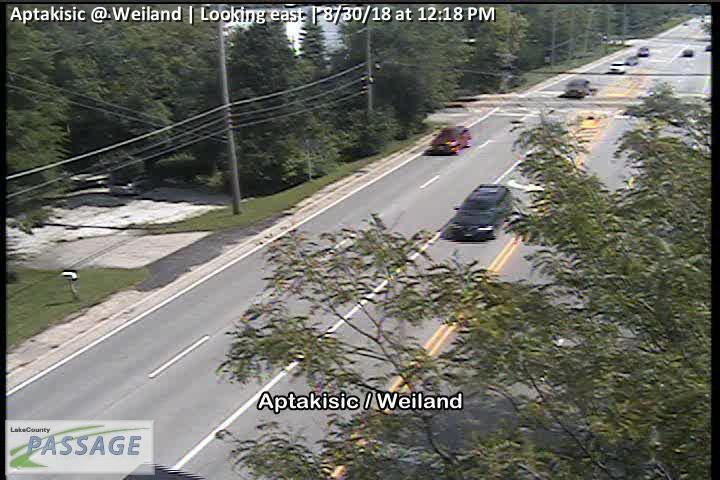Sedan: (448, 184, 512, 239), (106, 169, 161, 194), (429, 126, 471, 154), (564, 77, 590, 98), (609, 61, 624, 74), (625, 56, 638, 66), (637, 48, 650, 56), (682, 49, 693, 56)
